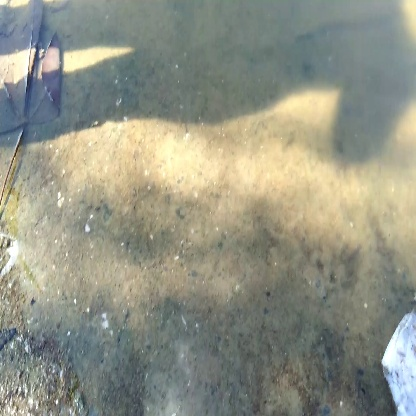branch: (8, 5, 56, 207)
